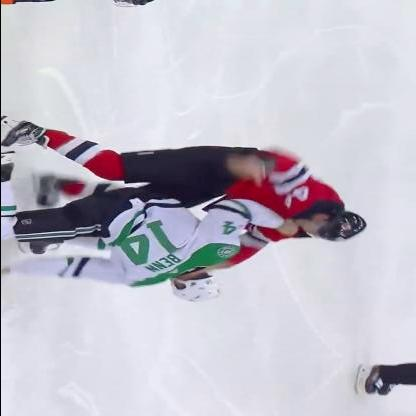voilence: (0, 140, 372, 306)
